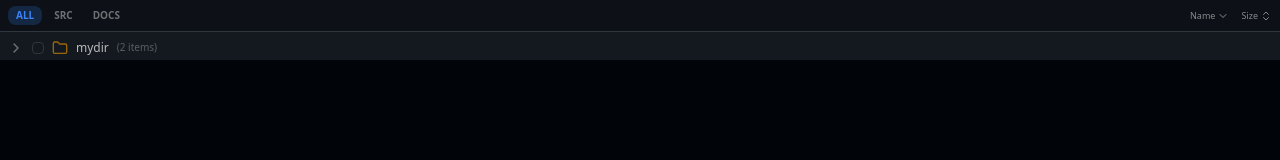
Test case: FileTree Indexing Scenarios › Lazy loading children › should load children when folder is expanded
Expected: the text "mydir" is shown, [76,38,109,56]
Expected: the text "file1.ts" is not shown
Note: Expand folder
What coordinates should you click on to do the following:
click the button with test id "expand-icon"
I would click on:
 (16, 48)
Its box is [6,38,26,58].
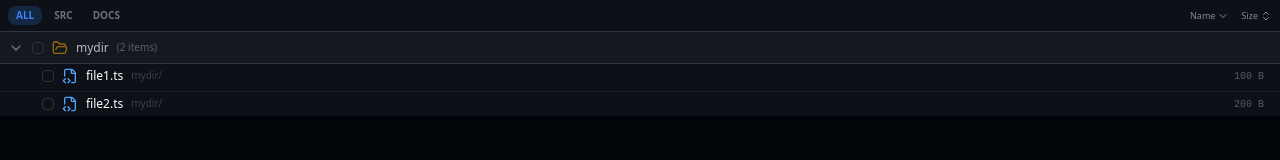
Expected: the text "file1.ts" is shown, [86,66,123,84]
Expected: the text "file2.ts" is shown, [86,94,123,112]
